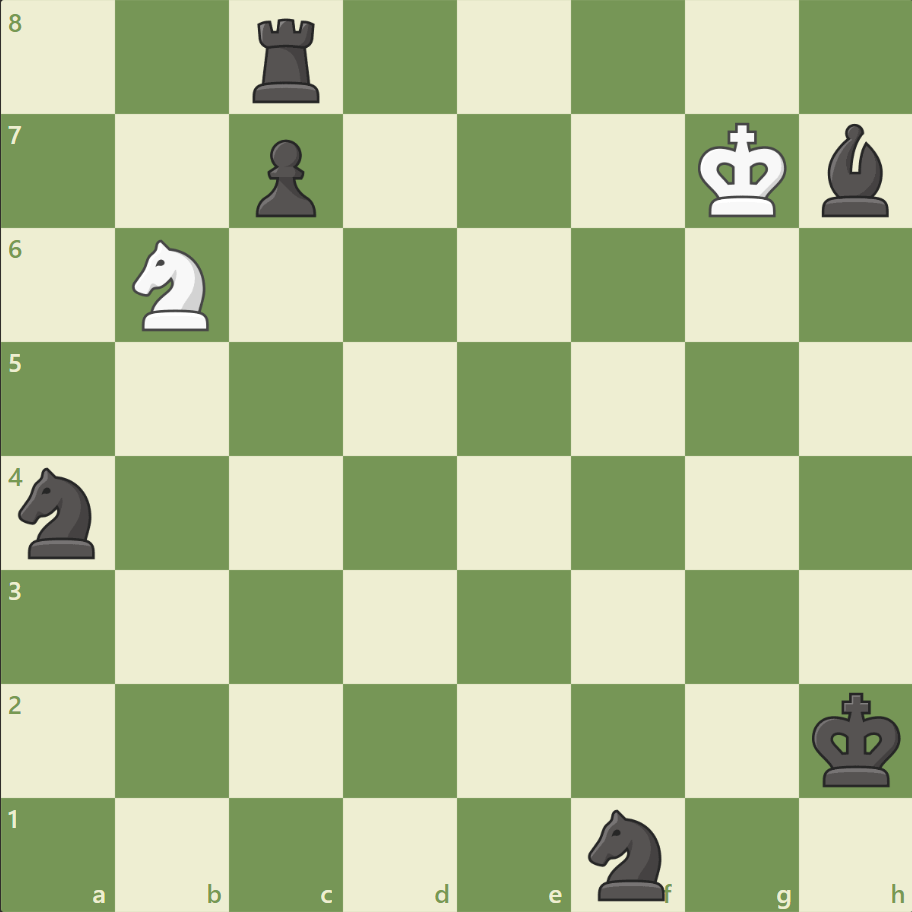K: (692, 117, 792, 225)
N: (124, 234, 222, 337)
b: (812, 120, 896, 222)
k: (806, 685, 906, 793)
n: (11, 461, 108, 564), (579, 802, 676, 904)
p: (247, 132, 322, 223)
r: (246, 12, 329, 109)
